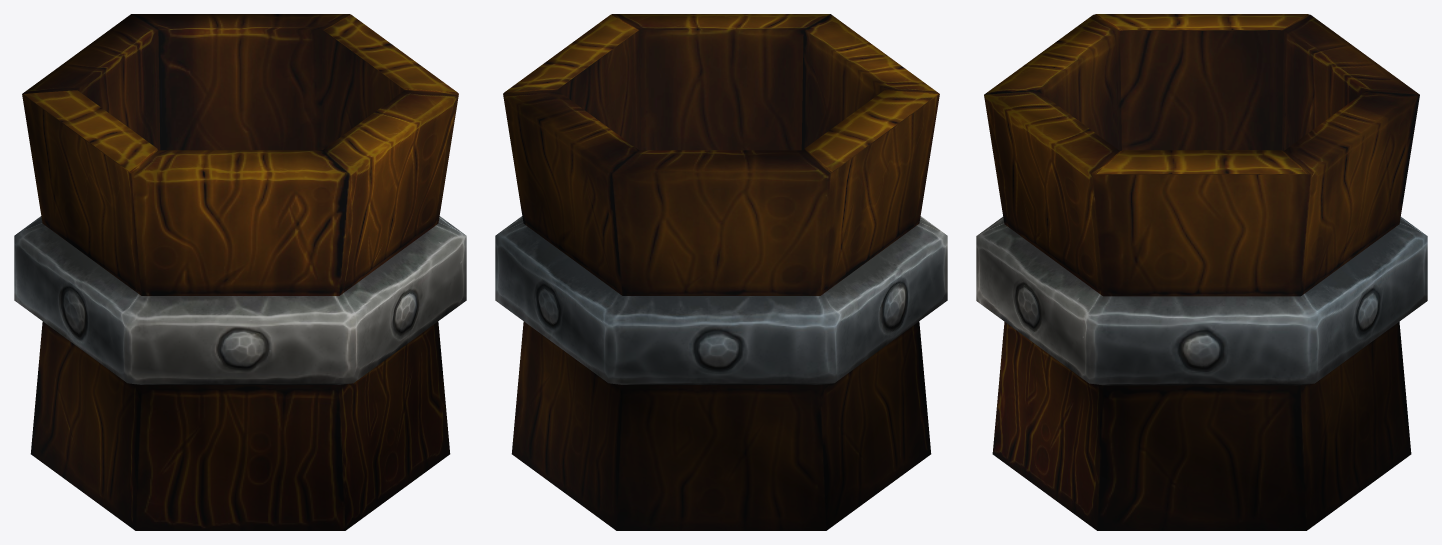
File: Mug.fbx
The picture shows the model from 3 angles, left to right: view 1: azimuth 30°, elevation 25°; view 2: azimuth 150°, elevation 25°; view 3: azimuth 270°, elevation 25°; orthographic projection.
Parts seen in each view (by area): view 1: defaultMaterial; view 2: defaultMaterial; view 3: defaultMaterial.
Boxes of the visible parts, x1,y1,x2,y2 form: defaultMaterial: (14,14,466,530); defaultMaterial: (495,14,947,530); defaultMaterial: (976,14,1427,530).
Size of the model in its own units: 253 by 260 by 292.
